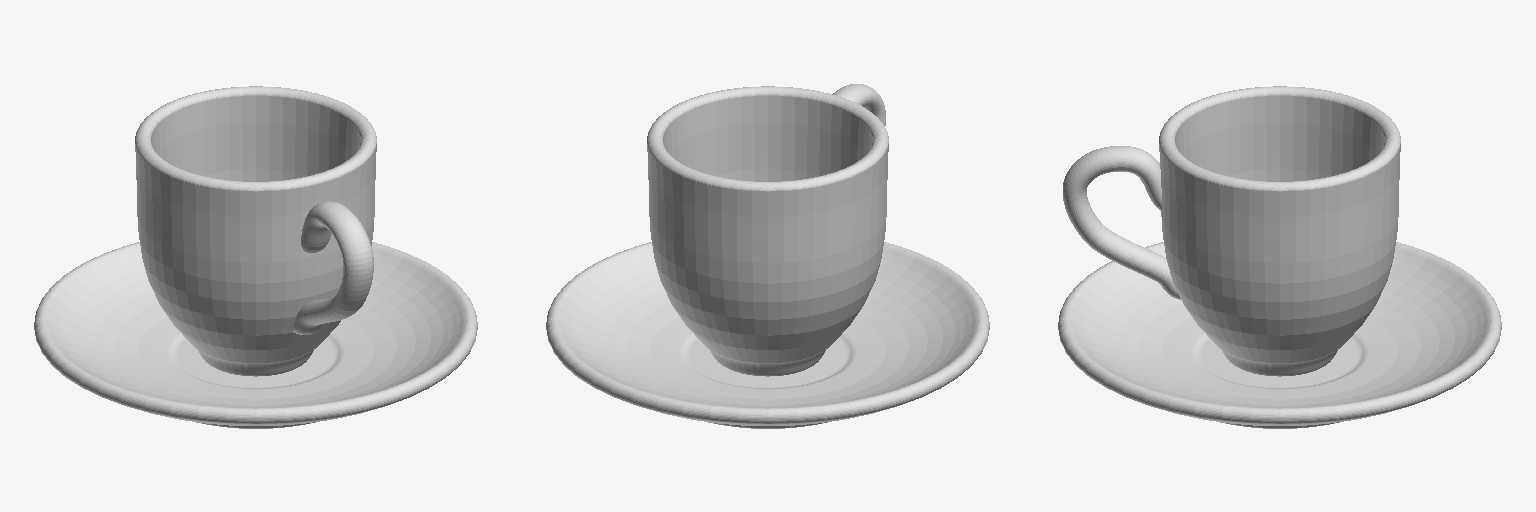
File: cocup.obj
3 renders of one model, left to right at view 1: azimuth 30°, elevation 25°; view 2: azimuth 150°, elevation 25°; view 3: azimuth 270°, elevation 25°, orthographic.
Visible parts, largest first — view 1: CUP, DISH; view 2: CUP, DISH; view 3: CUP, DISH.
Boxes of the visible parts, x1=… form: CUP: x1=135, y1=86, x2=376, y2=376; DISH: x1=34, y1=242, x2=477, y2=428; CUP: x1=647, y1=84, x2=888, y2=376; DISH: x1=546, y1=242, x2=989, y2=428; CUP: x1=1063, y1=86, x2=1400, y2=376; DISH: x1=1058, y1=242, x2=1501, y2=428.
Bounding box in the file's own units: 2200 × 1324 × 2200.